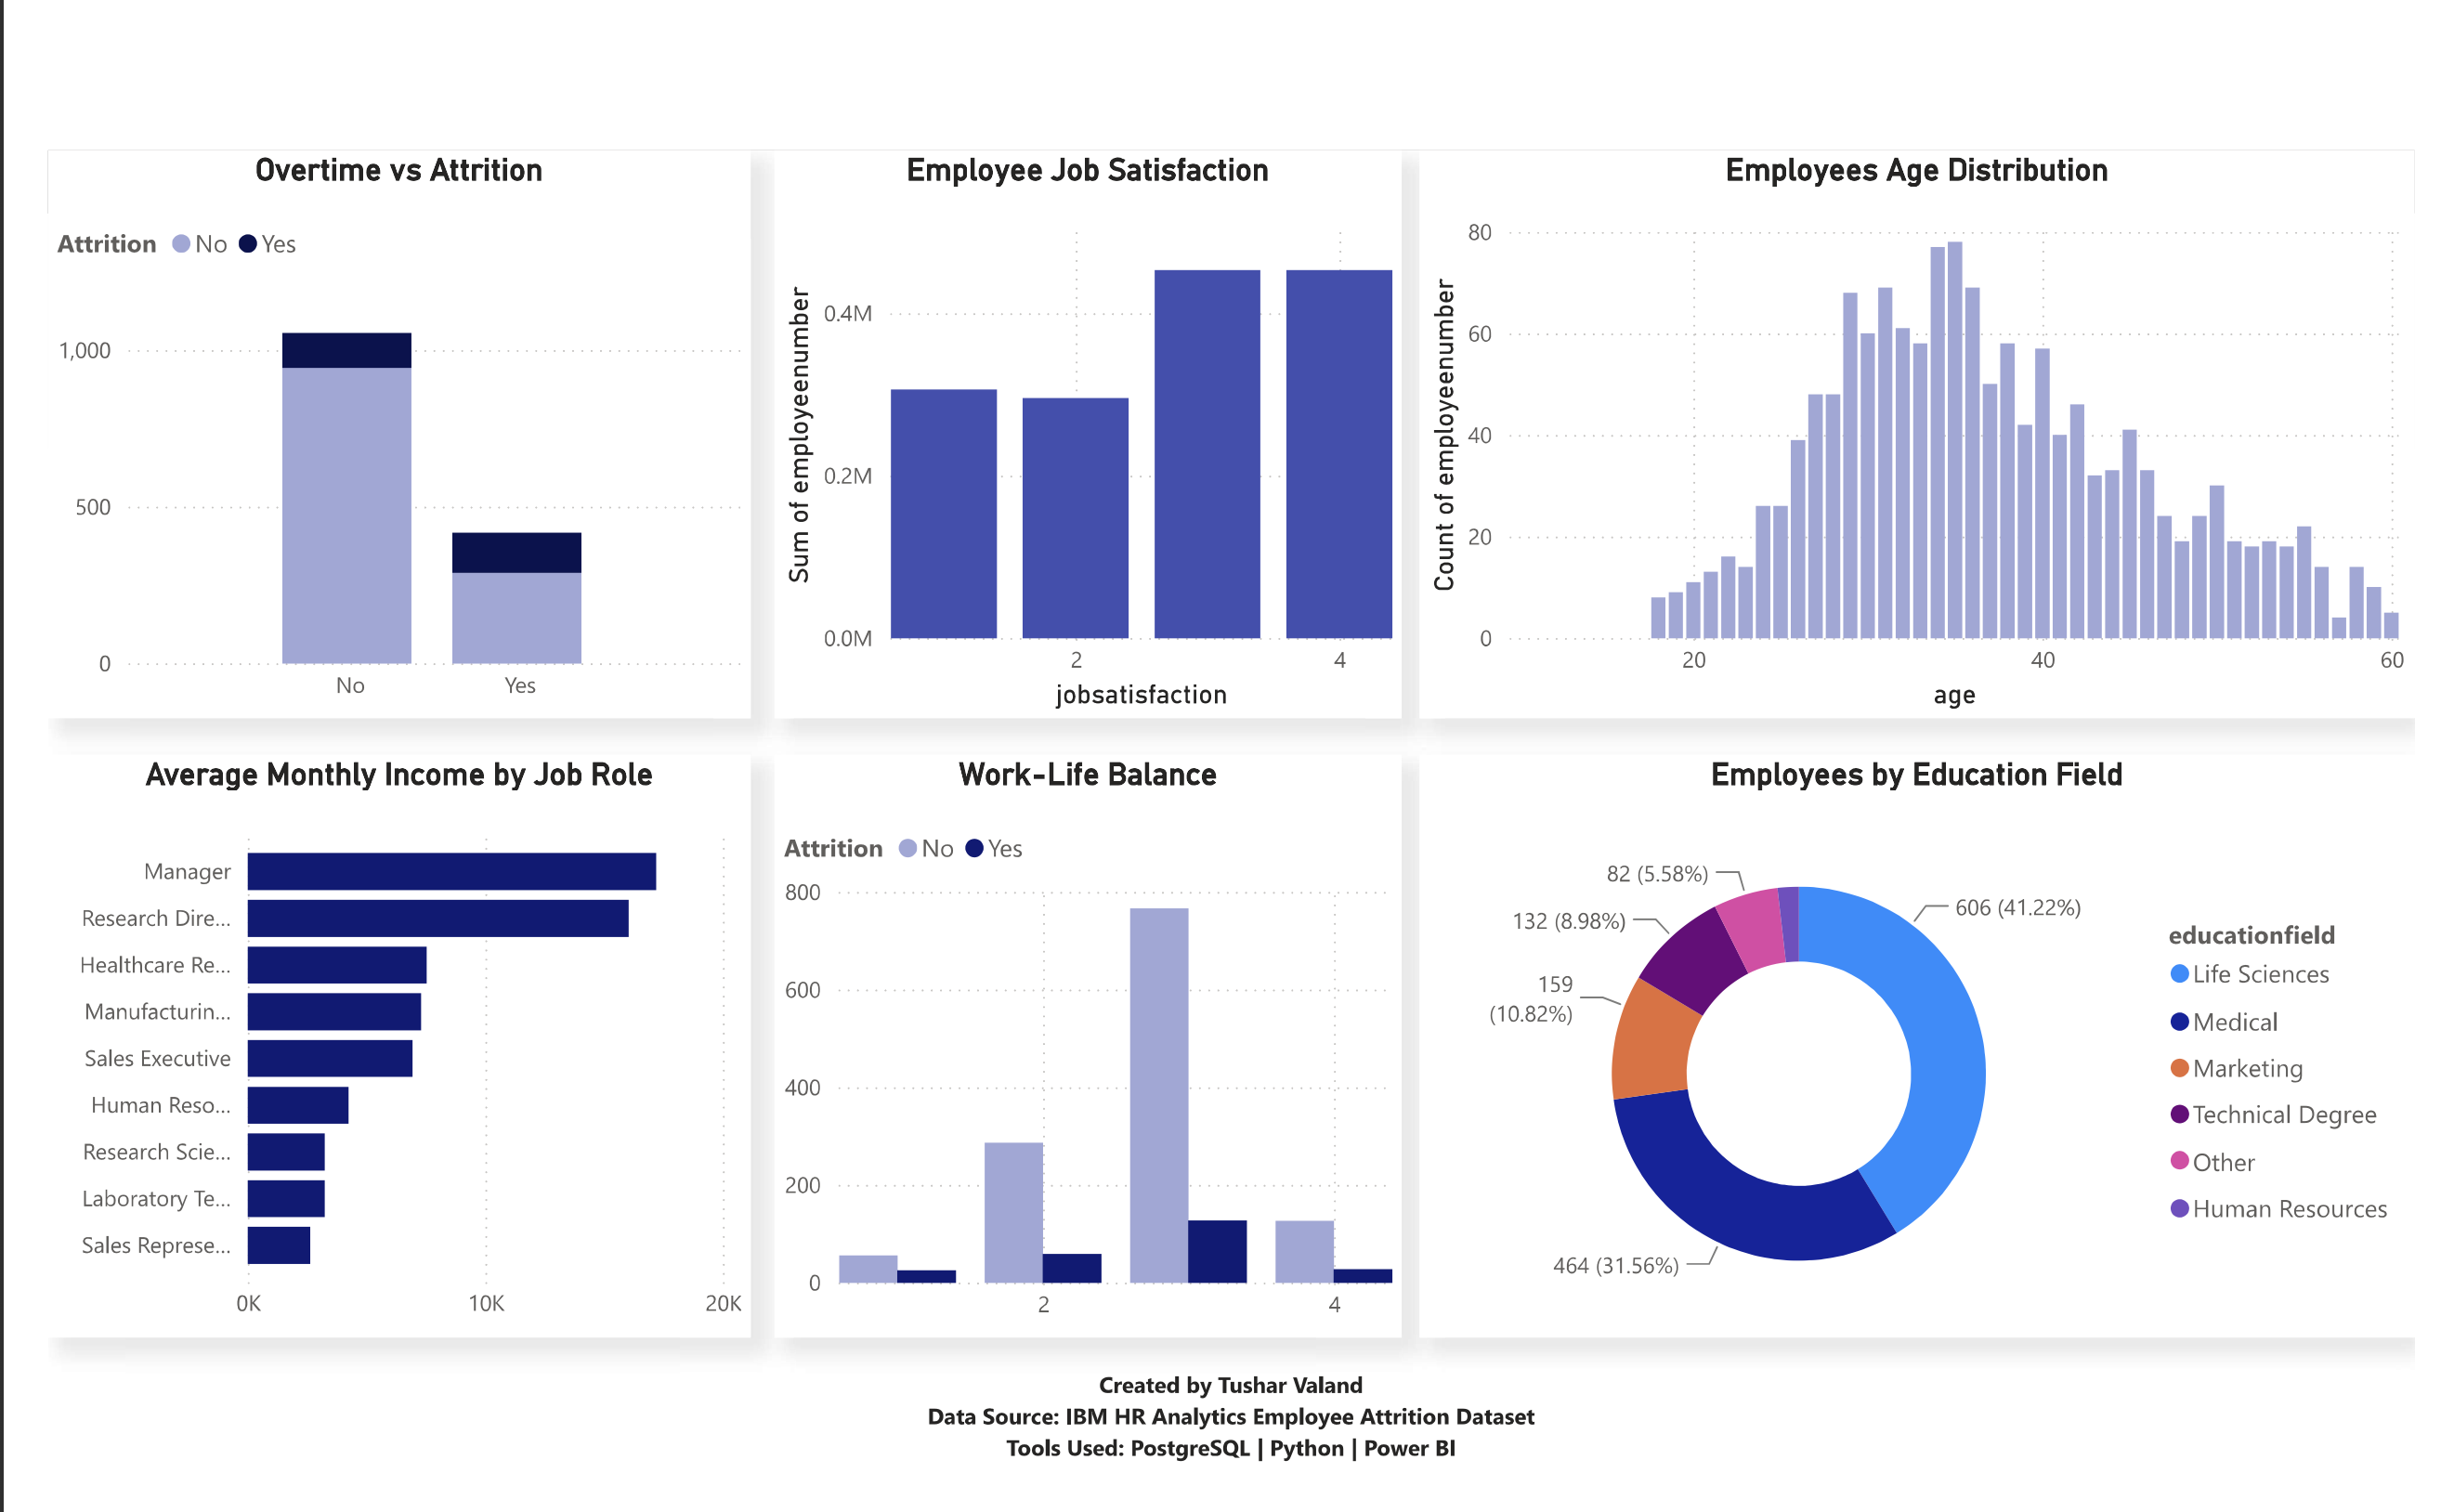

The page's visual inventory and layout, read from the dashboard file:
{"tool":"powerbi","page":{"name":"Page 2","canvas":[1280,720],"ordinal":1},"visuals":[{"type":"columnChart","title":"Overtime vs Attrition","fields":{"Category":["public employees.overtime"],"Y":["CountNonNull(public employees.employeenumber)"],"Series":["public employees.attrition"]},"box":[0,0,380,306.7],"z":0},{"type":"clusteredColumnChart","title":"Employee Job Satisfaction","fields":{"Category":["public employees.jobsatisfaction"],"Y":["Sum(public employees.employeenumber)"]},"box":[393.3,0,338.3,306.7],"z":1000},{"type":"clusteredBarChart","title":"Average Monthly Income by Job Role","fields":{"Category":["public employees.jobrole"],"Y":["Avg(public employees.monthlyincome)"]},"box":[0,326.7,380,315],"z":2000},{"type":"clusteredColumnChart","title":"Work-Life Balance","fields":{"Category":["public employees.worklifebalance"],"Y":["CountNonNull(public employees.employeenumber)"],"Series":["public employees.attrition"]},"box":[393.3,326.7,338.3,315],"z":3000},{"type":"clusteredColumnChart","title":"Employees Age Distribution","fields":{"Category":["public employees.age"],"Y":["CountNonNull(public employees.employeenumber)"]},"box":[741.7,0,538.3,306.7],"z":4000},{"type":"donutChart","title":"Employees by Education Field","fields":{"Category":["public employees.educationfield"],"Y":["CountNonNull(public employees.employeenumber)"]},"box":[741.7,326.7,538.3,315],"z":5000},{"type":"textbox","box":[0,653.3,1280,66.7],"z":6000}]}

Visuals, with their boxes on the page's 1280x720 design canvas (x1, y1, x2, y2). These are canvas units, not pixel positions in the 2454x1512 screenshot, which may show the page scaled, cropped or inside an application window:
"Overtime vs Attrition" columnChart: x1=0, y1=0, x2=380, y2=307
"Employee Job Satisfaction" clusteredColumnChart: x1=393, y1=0, x2=732, y2=307
"Average Monthly Income by Job Role" clusteredBarChart: x1=0, y1=327, x2=380, y2=642
"Work-Life Balance" clusteredColumnChart: x1=393, y1=327, x2=732, y2=642
"Employees Age Distribution" clusteredColumnChart: x1=742, y1=0, x2=1280, y2=307
"Employees by Education Field" donutChart: x1=742, y1=327, x2=1280, y2=642
textbox: x1=0, y1=653, x2=1280, y2=720
